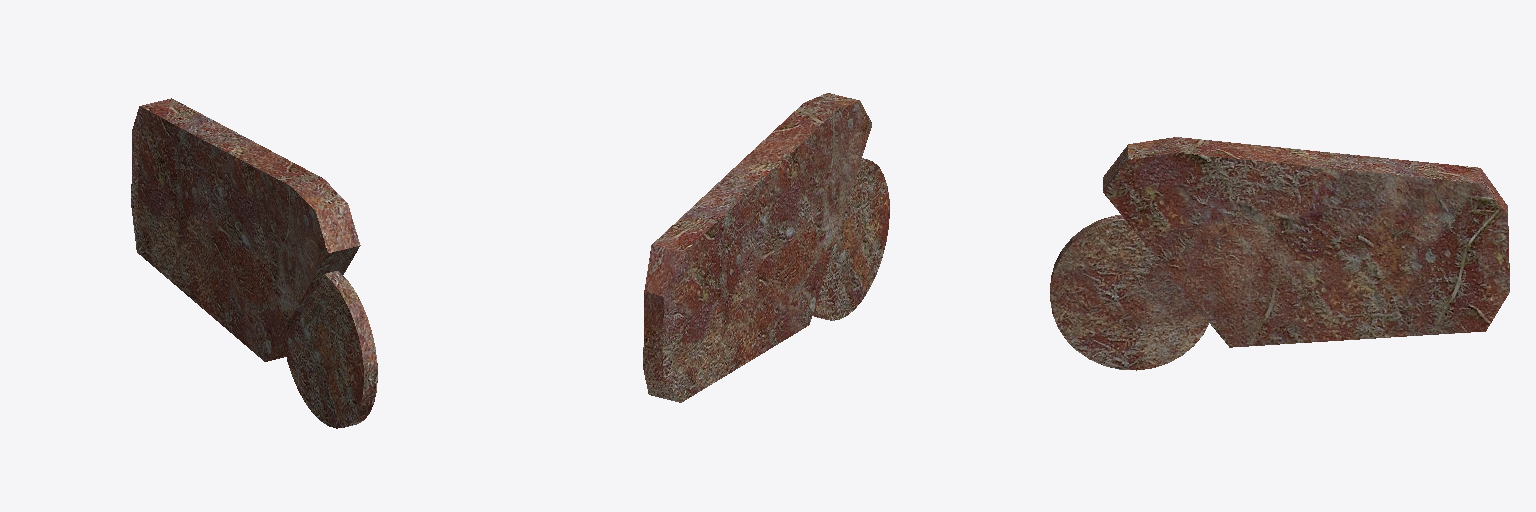
3 views of the same model, side by side, from view 1: azimuth 30°, elevation 25°; view 2: azimuth 150°, elevation 25°; view 3: azimuth 270°, elevation 25° (orthographic).
Visible parts, largest first — view 1: Brazo2; view 2: Brazo2; view 3: Brazo2.
Boxes of the visible parts, box(x1,y1,x2,y2) form: Brazo2: box(131, 98, 377, 428); Brazo2: box(643, 93, 889, 402); Brazo2: box(1050, 137, 1509, 370).
Size of the model in its own units: 0.3468 by 2.27 by 4.26.
Materials: 1 (1 with a texture image).